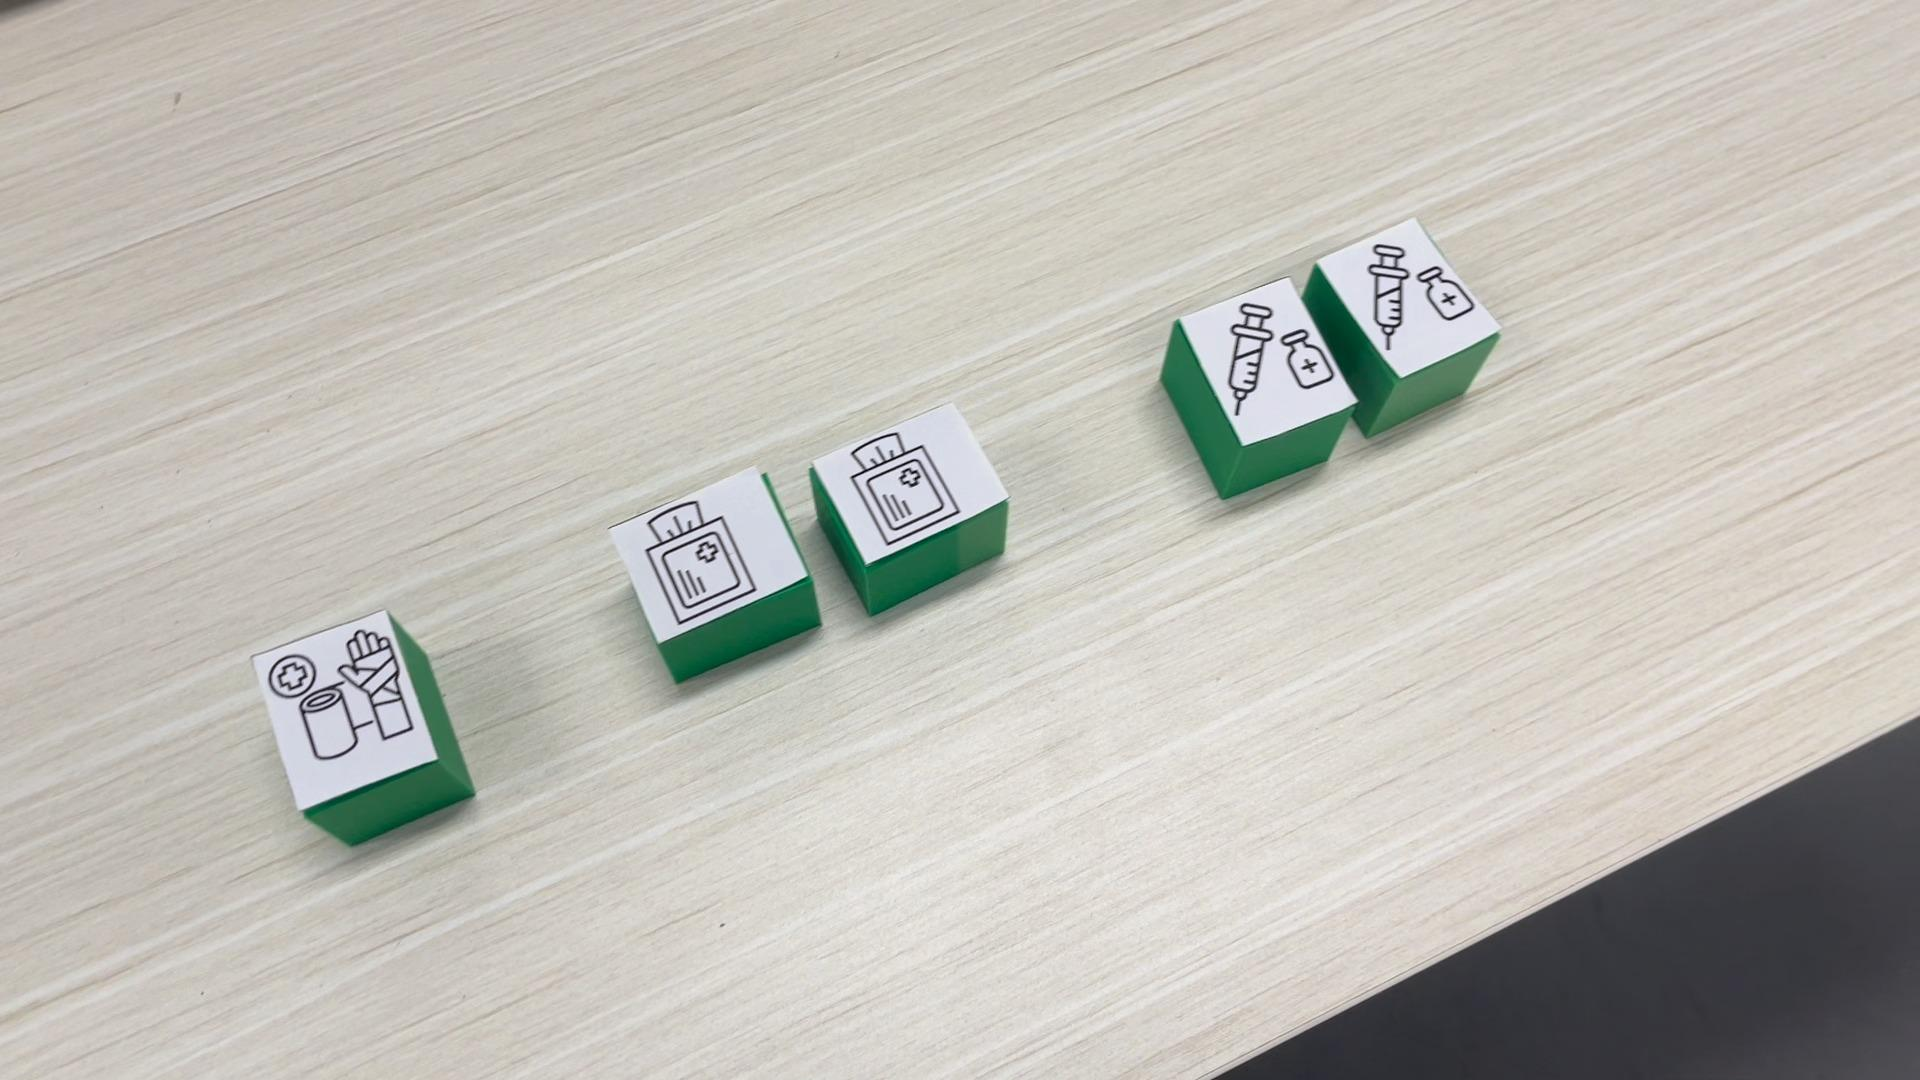Bandages: (245, 609, 473, 845)
Gauze: (603, 465, 819, 680), (810, 402, 1011, 616)
antiseptic cream: (1156, 276, 1357, 498), (1321, 219, 1503, 434)
